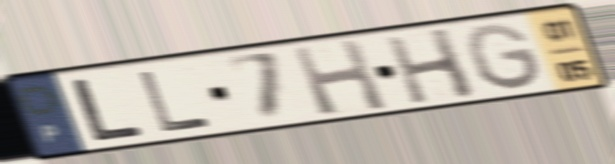7: (220, 51, 286, 125)
G: (463, 21, 547, 93)
H: (287, 35, 393, 118), (381, 25, 481, 107)
L: (67, 76, 148, 144), (134, 68, 216, 134)
